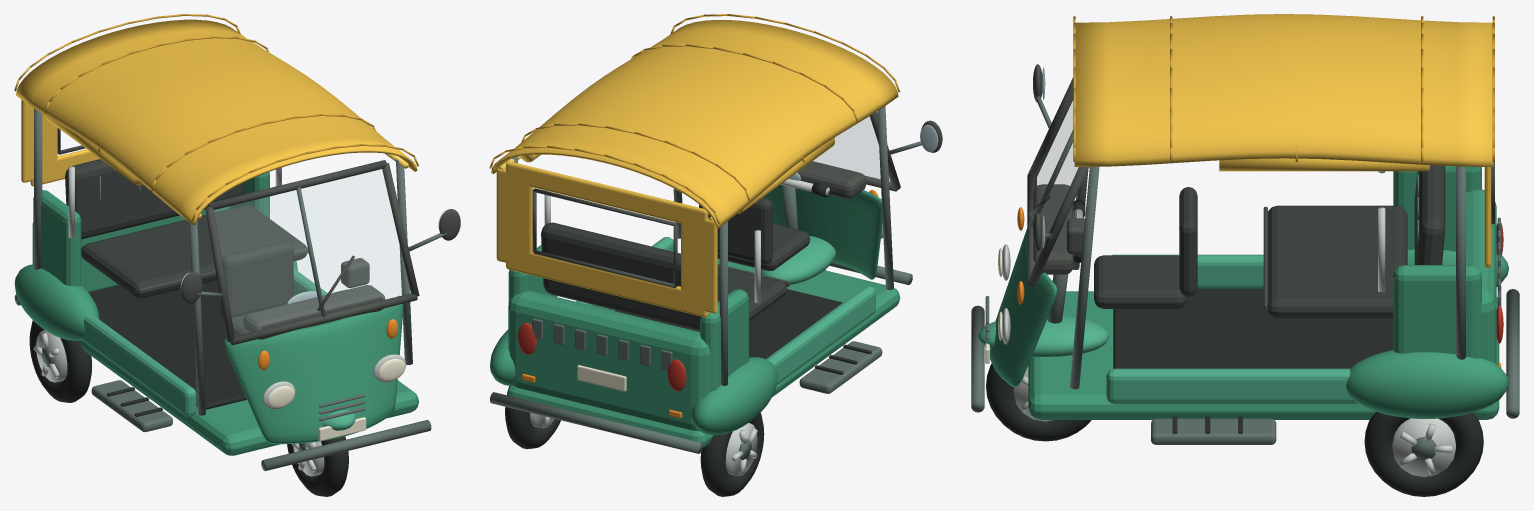
Rendered from auto-rickshaw.glb.
The picture shows the model from 3 angles, left to right: view 1: azimuth 30°, elevation 25°; view 2: azimuth 150°, elevation 25°; view 3: azimuth 270°, elevation 25°; orthographic projection. The views are drawn at different scales.
Parts seen in each view (by area): view 1: Yellow canvas, Auto green paint, Windscreen clear, Seat black vinyl, Rubber, Black trim, Dark steel, Green highlight, Silver aluminium, Canvas seams, Headlight glass, Plate cream; view 2: Yellow canvas, Auto green paint, Seat black vinyl, Dark steel, Rubber, Green highlight, Black trim, Canvas seams, Silver aluminium, Windscreen clear, Red tail light, Plate cream; view 3: Yellow canvas, Auto green paint, Rubber, Seat black vinyl, Green highlight, Dark steel, Black trim, Silver aluminium, Windscreen clear, Canvas seams.
Part boxes in pixels (bbox=[...]): Yellow canvas: bbox=[16, 19, 417, 225]; Auto green paint: bbox=[14, 172, 418, 455]; Windscreen clear: bbox=[214, 169, 410, 335]; Seat black vinyl: bbox=[65, 159, 306, 336]; Rubber: bbox=[29, 280, 348, 496]; Black trim: bbox=[57, 128, 460, 345]; Dark steel: bbox=[14, 108, 446, 470]; Green highlight: bbox=[81, 268, 356, 430]; Silver aluminium: bbox=[33, 166, 405, 476]; Canvas seams: bbox=[14, 14, 418, 221]; Headlight glass: bbox=[267, 359, 405, 407]; Plate cream: bbox=[318, 417, 366, 441]; Yellow canvas: bbox=[491, 20, 898, 317]; Auto green paint: bbox=[490, 184, 900, 447]; Seat black vinyl: bbox=[541, 198, 810, 330]; Dark steel: bbox=[490, 106, 921, 460]; Rubber: bbox=[505, 182, 871, 496]; Green highlight: bbox=[576, 236, 875, 384]; Black trim: bbox=[532, 111, 942, 288]; Canvas seams: bbox=[489, 14, 900, 224]; Silver aluminium: bbox=[530, 179, 883, 476]; Windscreen clear: bbox=[814, 116, 890, 182]; Red tail light: bbox=[518, 323, 686, 391]; Plate cream: bbox=[577, 365, 626, 391]; Yellow canvas: bbox=[1074, 14, 1493, 267]; Auto green paint: bbox=[990, 166, 1508, 419]; Rubber: bbox=[986, 199, 1483, 496]; Seat black vinyl: bbox=[1094, 165, 1445, 318]; Green highlight: bbox=[978, 254, 1358, 404]; Dark steel: bbox=[971, 93, 1519, 460]; Black trim: bbox=[1027, 64, 1494, 310]; Silver aluminium: bbox=[1002, 171, 1455, 476]; Windscreen clear: bbox=[1034, 92, 1078, 264]; Canvas seams: bbox=[1073, 16, 1494, 161].
Bounding box in the file's own units: 1.97 × 2.25 × 2.84.
